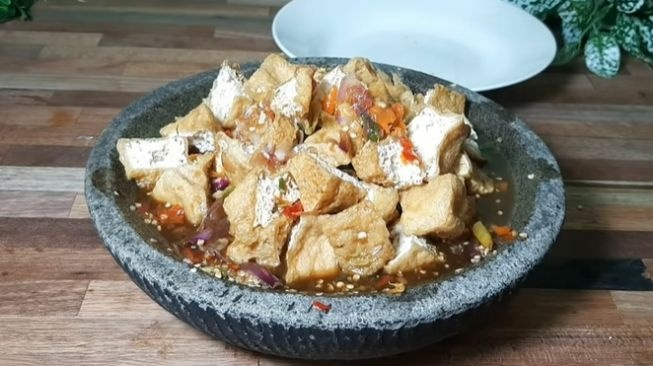tahu_gejrot: (118, 52, 485, 296)
